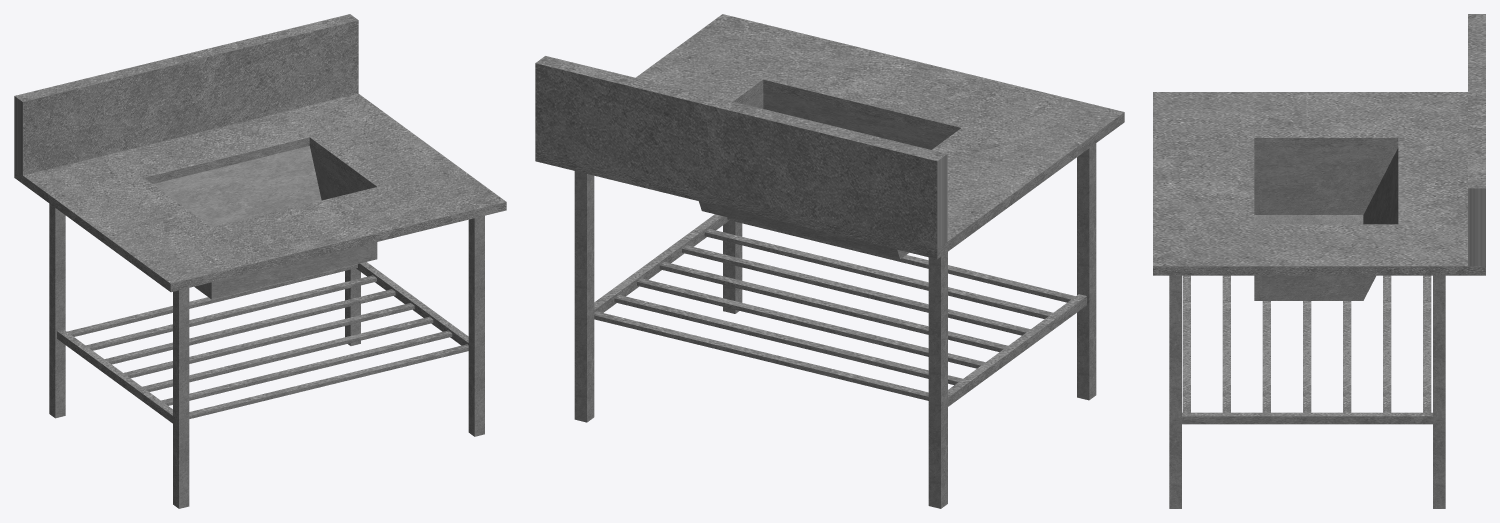
Rendered from KitchenTable02.fbx.
The picture shows the model from 3 angles, left to right: view 1: azimuth 30°, elevation 25°; view 2: azimuth 150°, elevation 25°; view 3: azimuth 270°, elevation 25°; orthographic projection. The views are drawn at different scales.
Parts seen in each view (by area): view 1: KitchenTable02; view 2: KitchenTable02; view 3: KitchenTable02.
Boxes of the visible parts, x1,y1,x2,y2 form: KitchenTable02: (14,14,506,508); KitchenTable02: (535,14,1124,508); KitchenTable02: (1153,14,1485,508).
Bounding box in the file's own units: 51.46 × 45.12 × 41.52.
